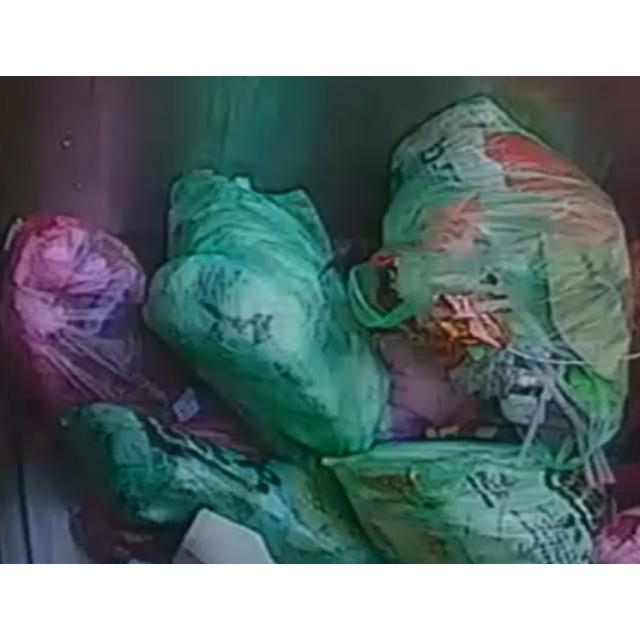general_trashbag: (350, 96, 629, 494), (144, 170, 386, 455), (70, 403, 379, 563), (324, 441, 603, 563)
other_trashbag: (4, 215, 165, 402)
